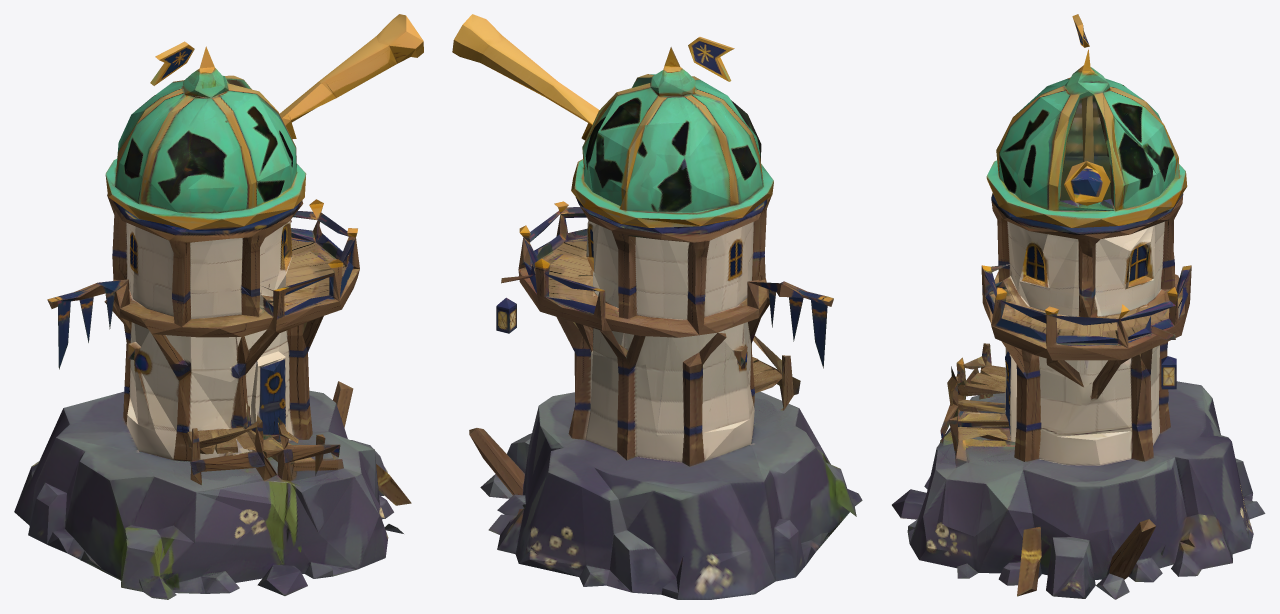
File: observatory.glb
The picture shows the model from 3 angles, left to right: view 1: azimuth 30°, elevation 25°; view 2: azimuth 150°, elevation 25°; view 3: azimuth 270°, elevation 25°; orthographic projection.
Bounding box in the file's own units: 1.46 × 1.83 × 1.3.
Materials: 1 (1 with a texture image).
